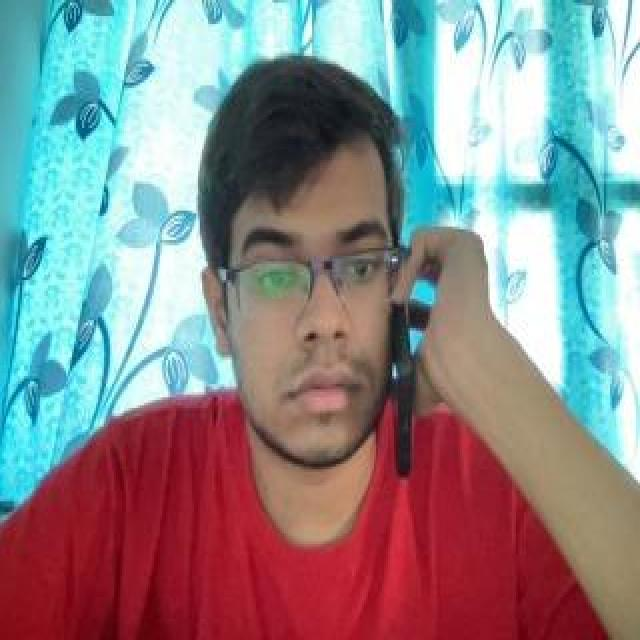phone: (391, 233, 421, 482)
